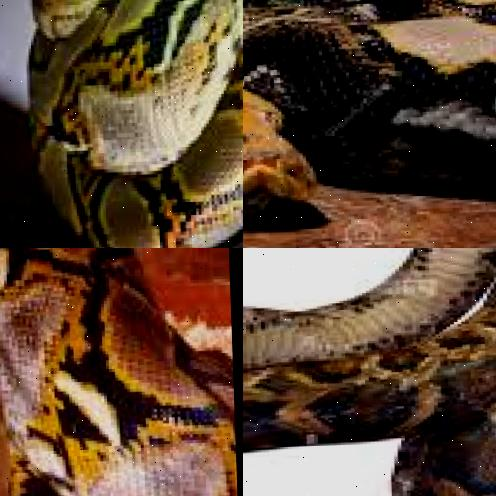3: (0, 0, 243, 248), (0, 248, 243, 496), (243, 0, 496, 229)
snake: (243, 248, 496, 496)
